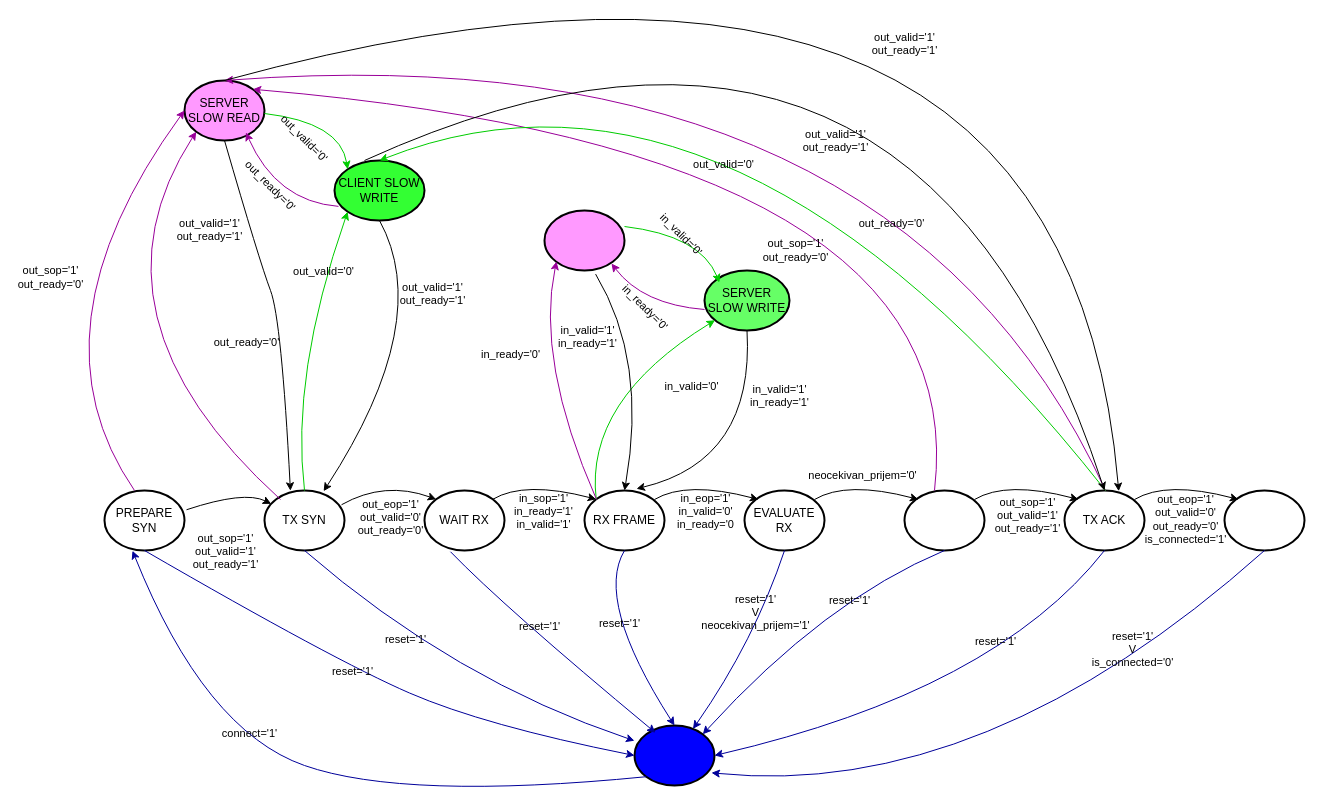
Image size: 1323x804. Some labels were removed from this diagram. Each missing label, with the centre of its shape:
CLIENT SLOW READ: point (584, 240)
CONNECTED: point (1264, 520)
IDLE: point (674, 755)
PREPARE ACK: point (944, 520)
